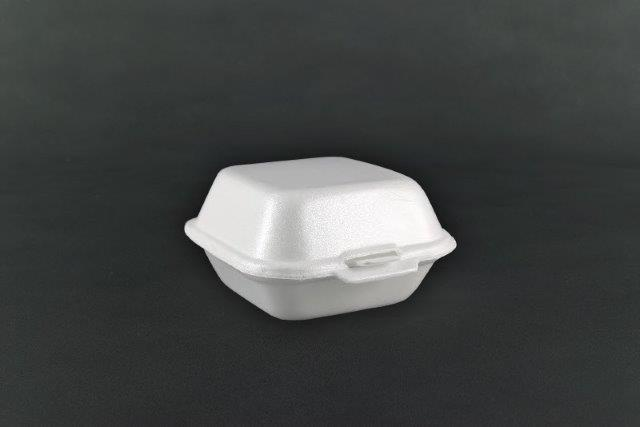sterofoam: (187, 158, 455, 310)
